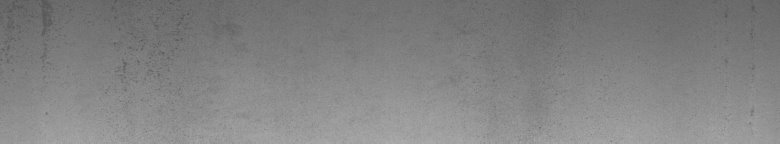ib: (115, 14, 188, 76)
